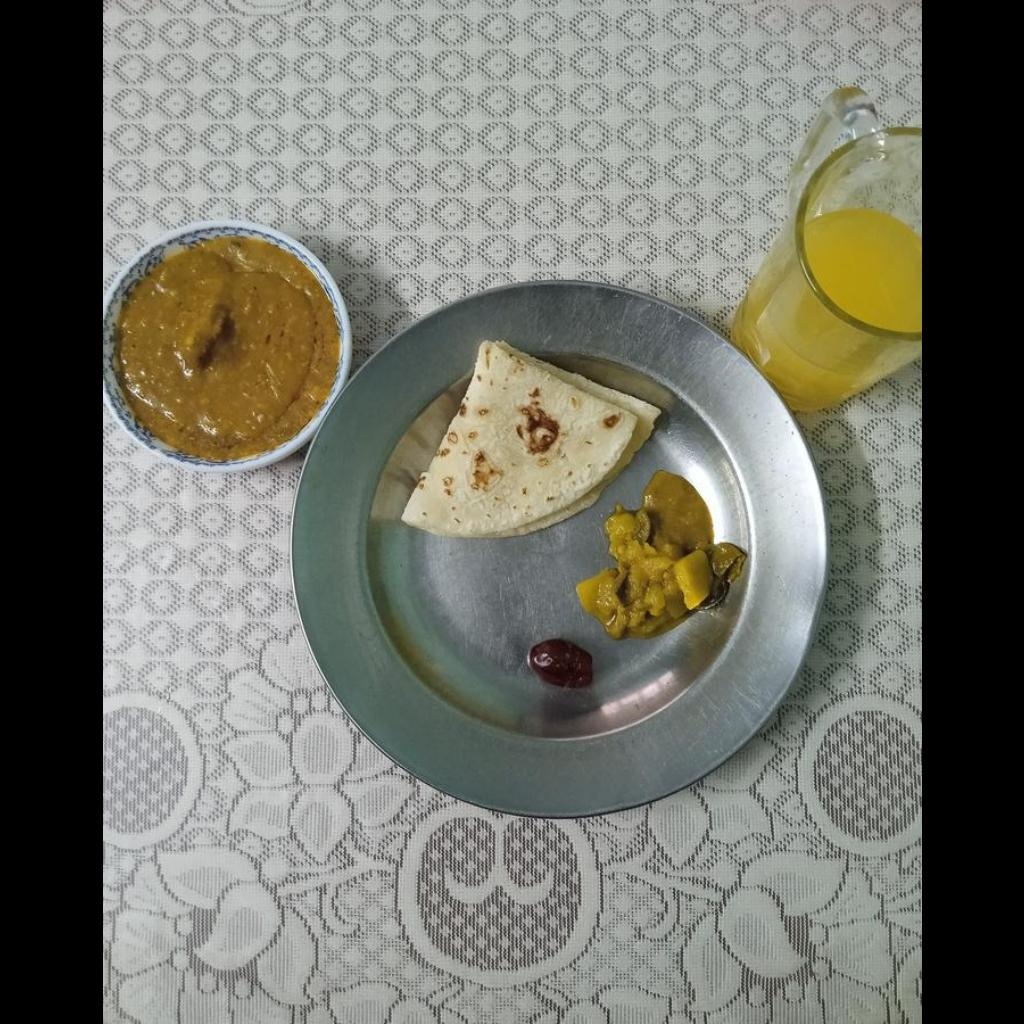daal: (116, 238, 339, 460)
dates: (528, 638, 591, 688)
juice: (802, 208, 920, 333)
ruti: (400, 344, 662, 536)
vegetable: (576, 510, 745, 637)
